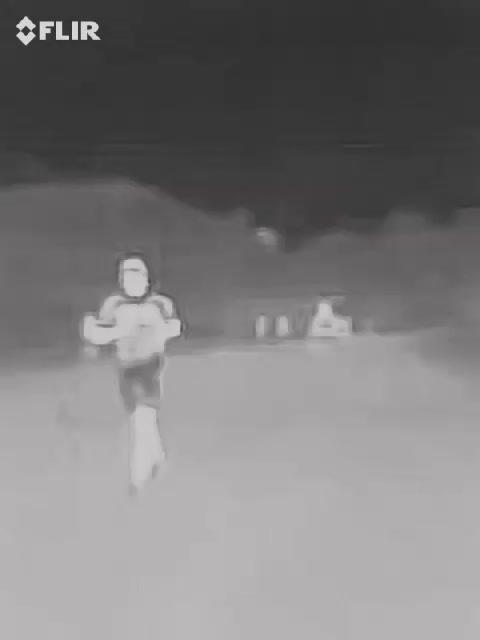head: (110, 251, 154, 303)
